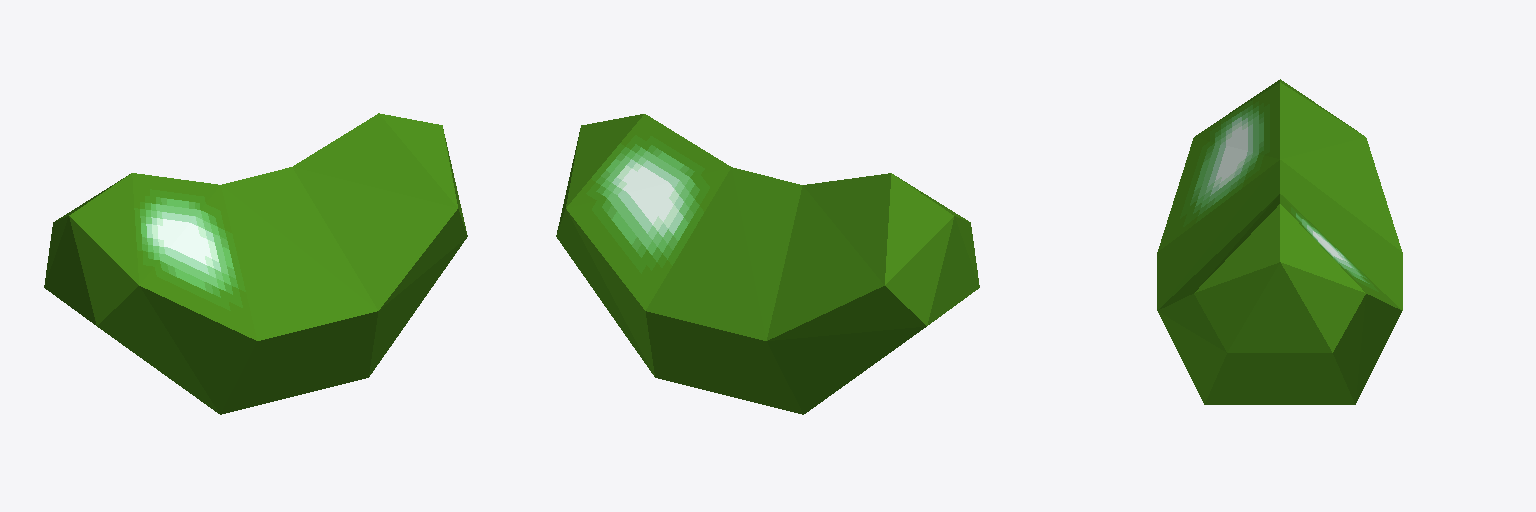
The picture shows the model from 3 angles: view 1: azimuth 30°, elevation 25°; view 2: azimuth 150°, elevation 25°; view 3: azimuth 270°, elevation 25°; orthographic projection.
Parts seen in each view (by area): view 1: T1L2M007_34; view 2: T1L2M007_34; view 3: T1L2M007_34.
Part boxes in pixels (bbox=[...]): T1L2M007_34: bbox=[44, 113, 467, 414]; T1L2M007_34: bbox=[556, 114, 979, 414]; T1L2M007_34: bbox=[1157, 79, 1402, 404].
Bounding box in the file's own units: 0.5547 × 0.3213 × 0.3154.
Materials: 1 (1 with a texture image).